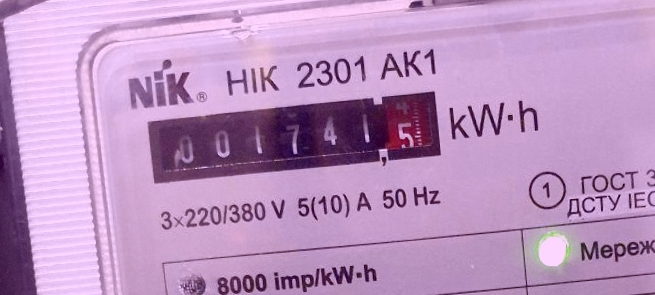0: (211, 124, 233, 160), (175, 130, 197, 165)
1: (247, 120, 267, 157), (356, 109, 374, 146)
4: (318, 111, 341, 148), (393, 97, 411, 116)
5: (394, 117, 415, 149)
7: (283, 119, 303, 156)
screen: (140, 83, 449, 190)
